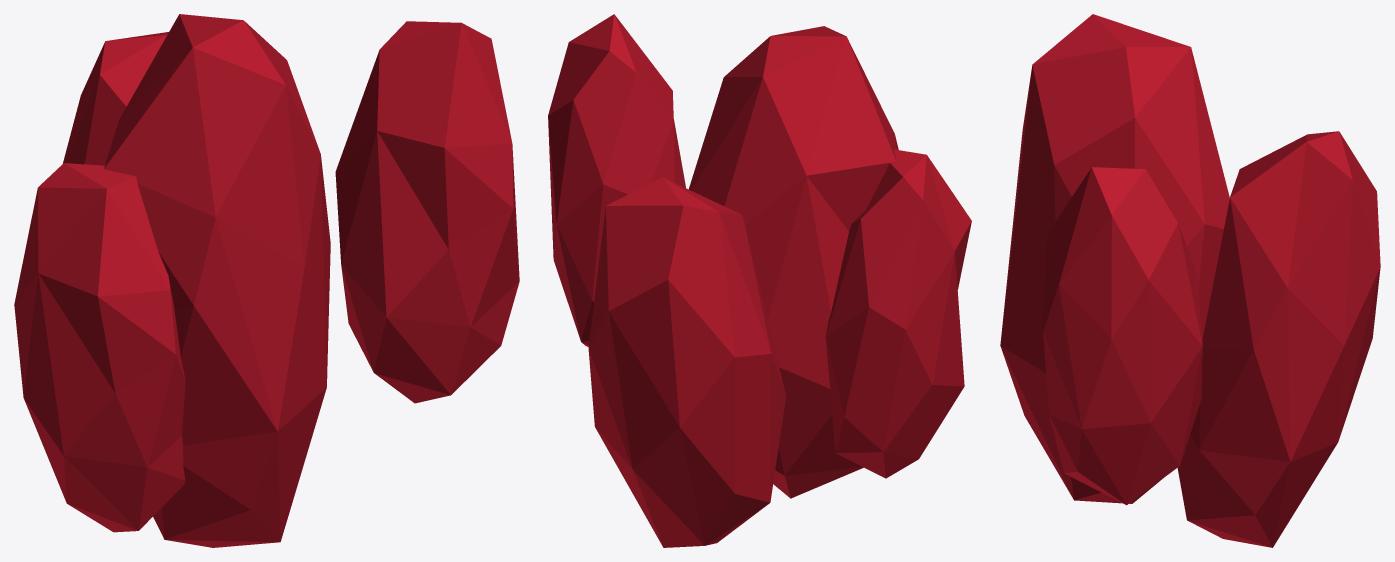
Rendered from tree-dead-leaves-13-043.glb.
3 renders of one model, left to right at view 1: azimuth 30°, elevation 25°; view 2: azimuth 150°, elevation 25°; view 3: azimuth 270°, elevation 25°, orthographic. The views are drawn at different scales.
Visible parts, largest first — view 1: TREE 13.007_503; view 2: TREE 13.007_503; view 3: TREE 13.007_503.
Part boxes in pixels (x1=…): TREE 13.007_503: x1=14, y1=14, x2=519, y2=547; TREE 13.007_503: x1=548, y1=14, x2=971, y2=547; TREE 13.007_503: x1=1000, y1=14, x2=1380, y2=547.
Size of the model in its own units: 0.9813 by 1.11 by 0.7767.
